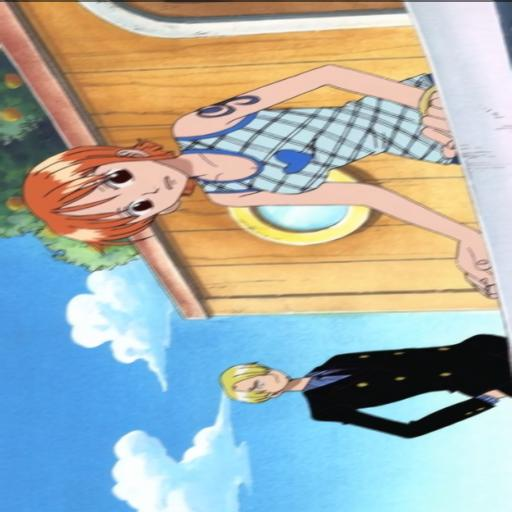Nami: (17, 65, 512, 262)
sanji: (189, 296, 512, 469)
